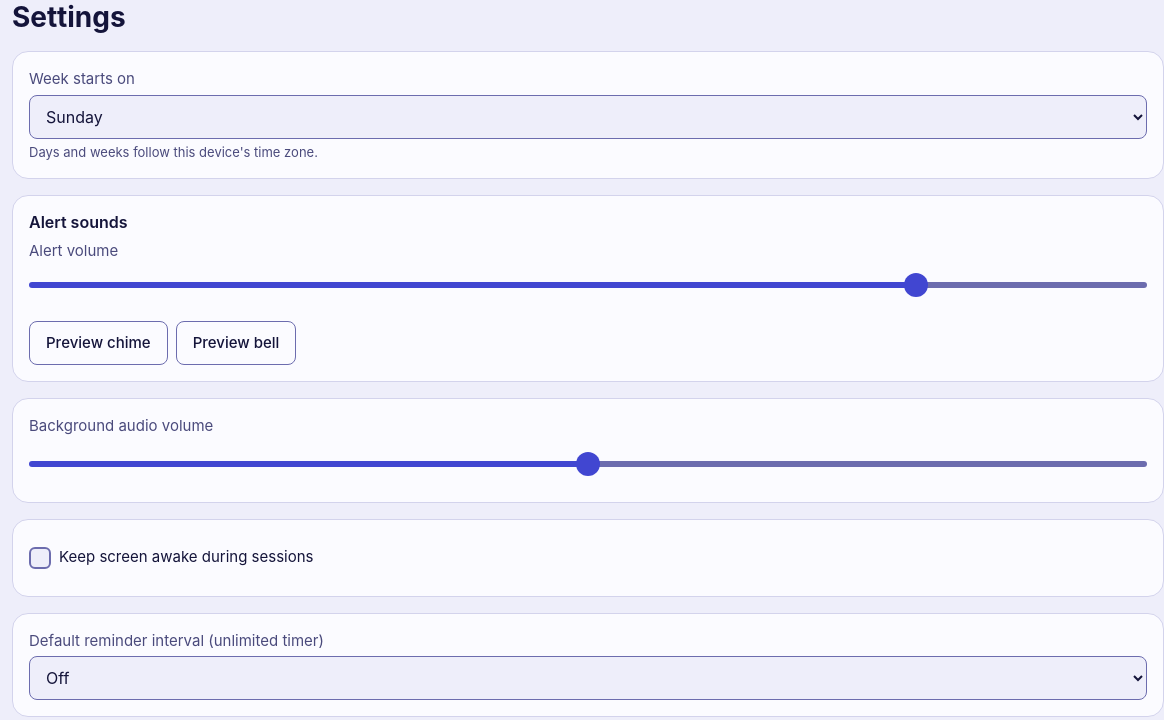
Test case: SettingsScreen › says when changes are waiting to sync
Expected: the text "sync" is not shown
Select "Tuesday" in the dropdown labelled "Week starts on" at [588, 116], box [29,94,1147,138]
(page scrolled)
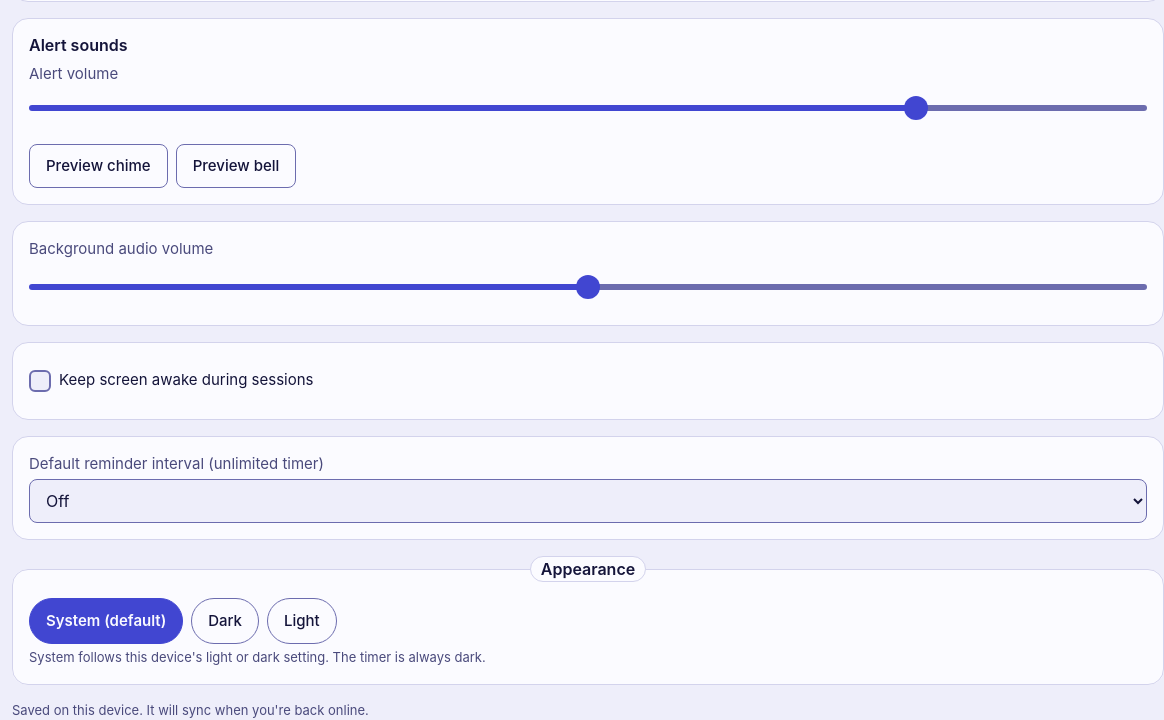
Now the text "Saved on this device. It will sync when you're back online." is shown, box [12,702,369,718]
